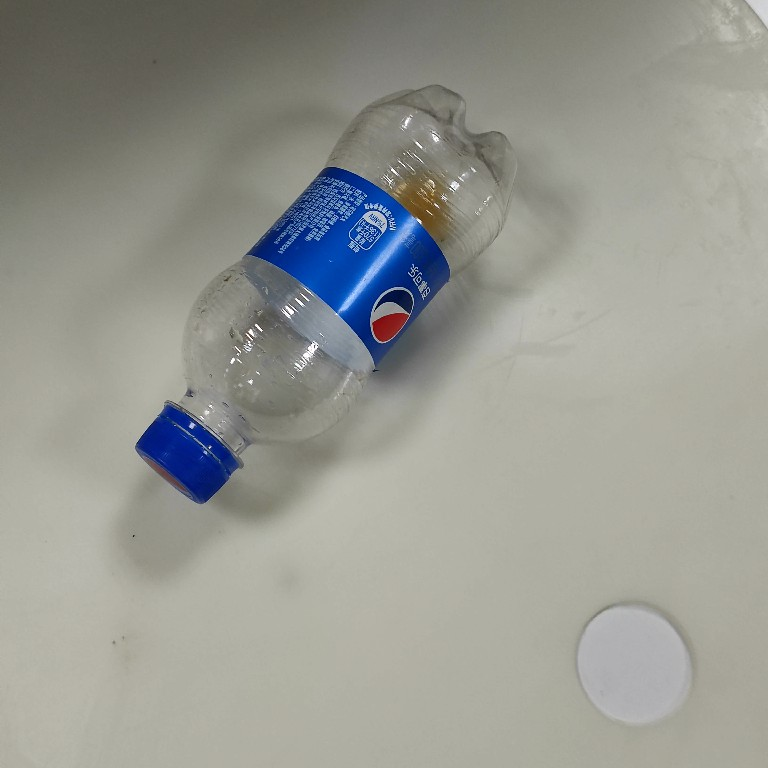bottle: (128, 79, 525, 508)
